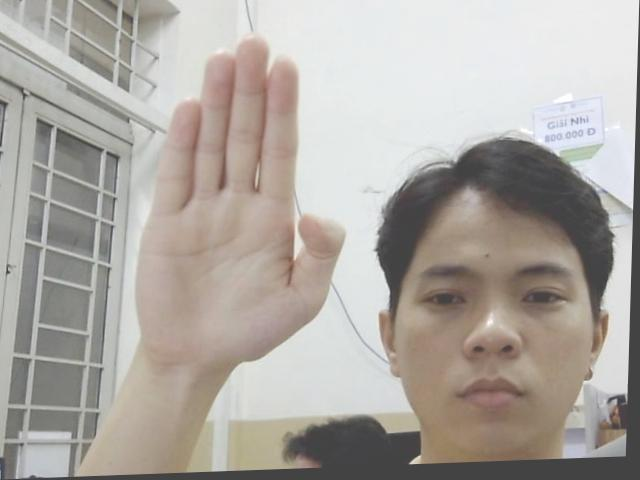B: (116, 23, 361, 384)
